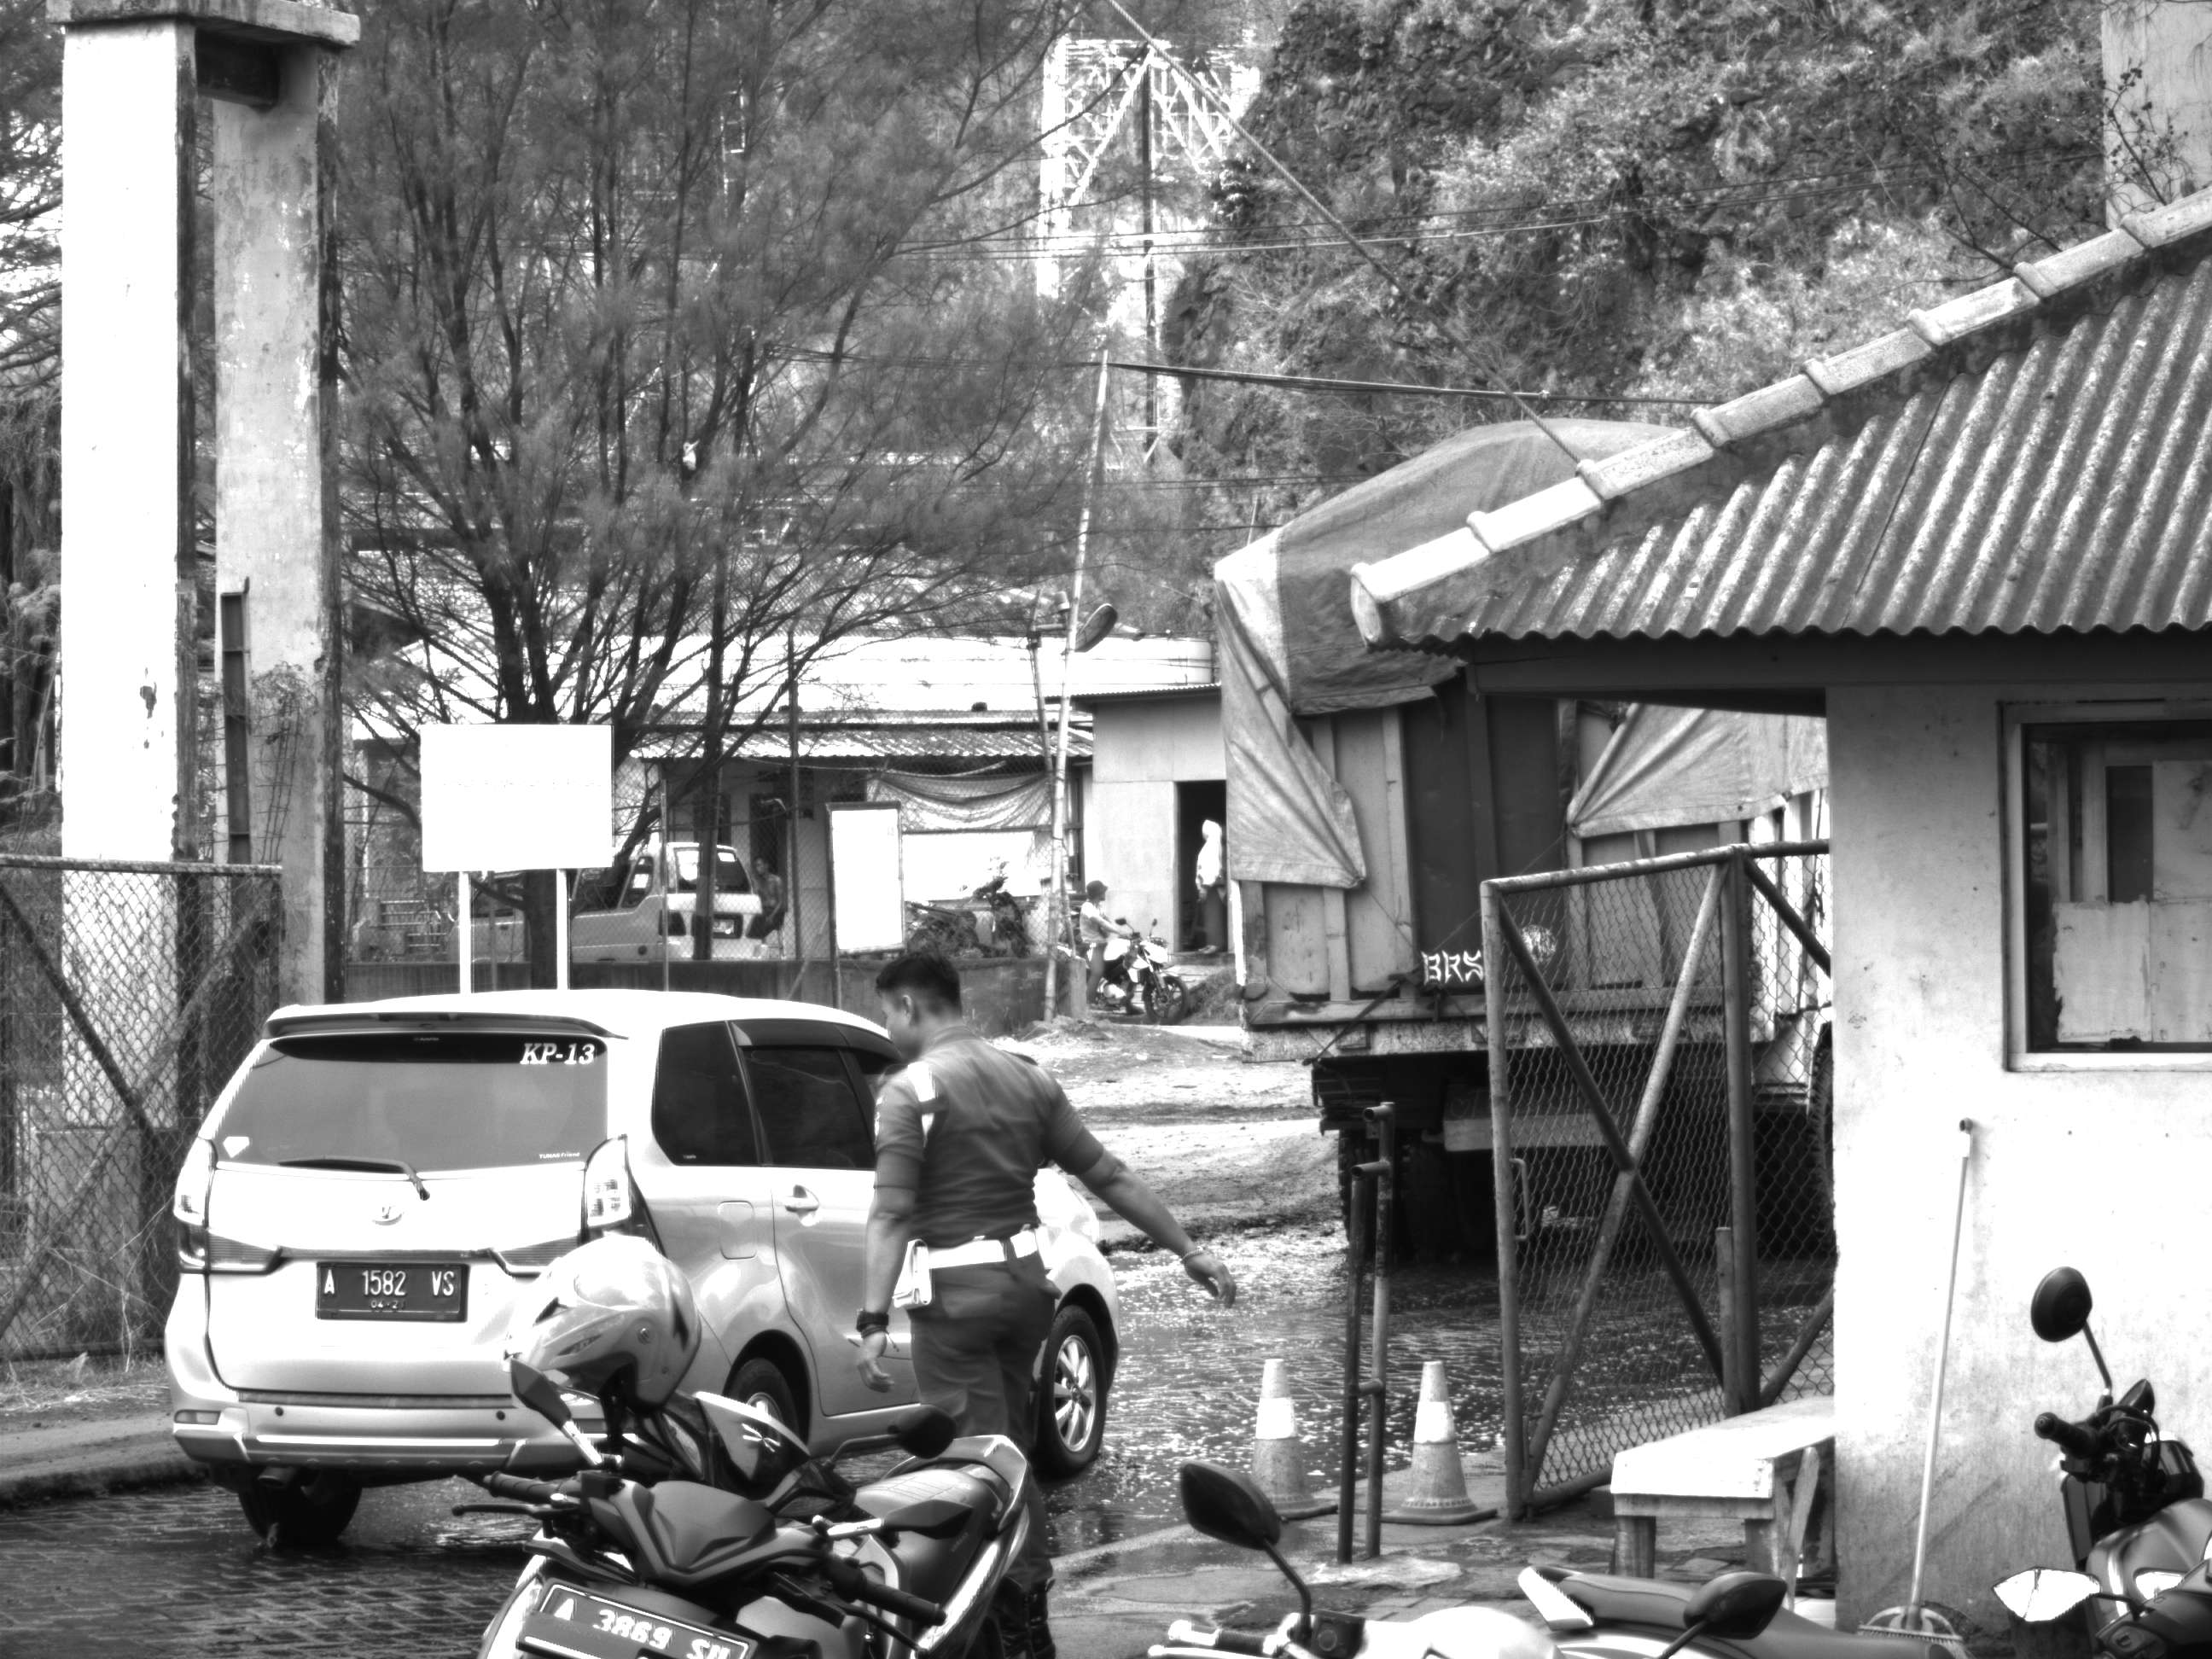day_small_rear: (148, 978, 835, 1555)
plate: (311, 1255, 480, 1326)
